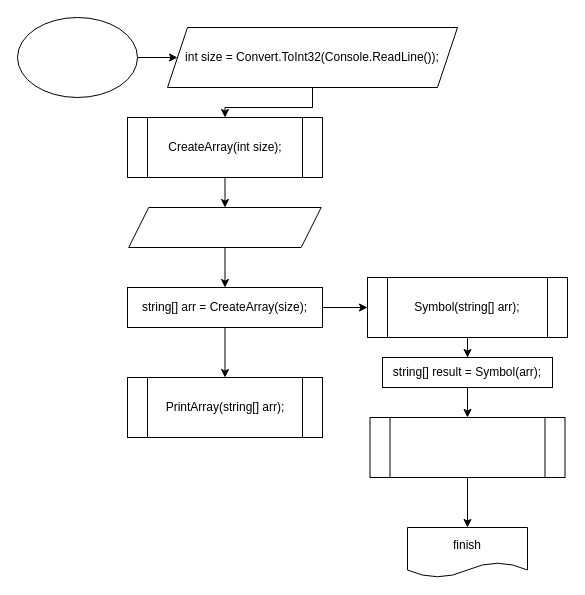
The diagram is 585 pixels wide and 595 high, and some of its shapes have lost their labels. Each missing label, with the centre of its shape:
arr[i] = Console.ReadLine();: the point at 224,227
PrintArray(string[] result);: the point at 467,447
start: the point at 77,57
